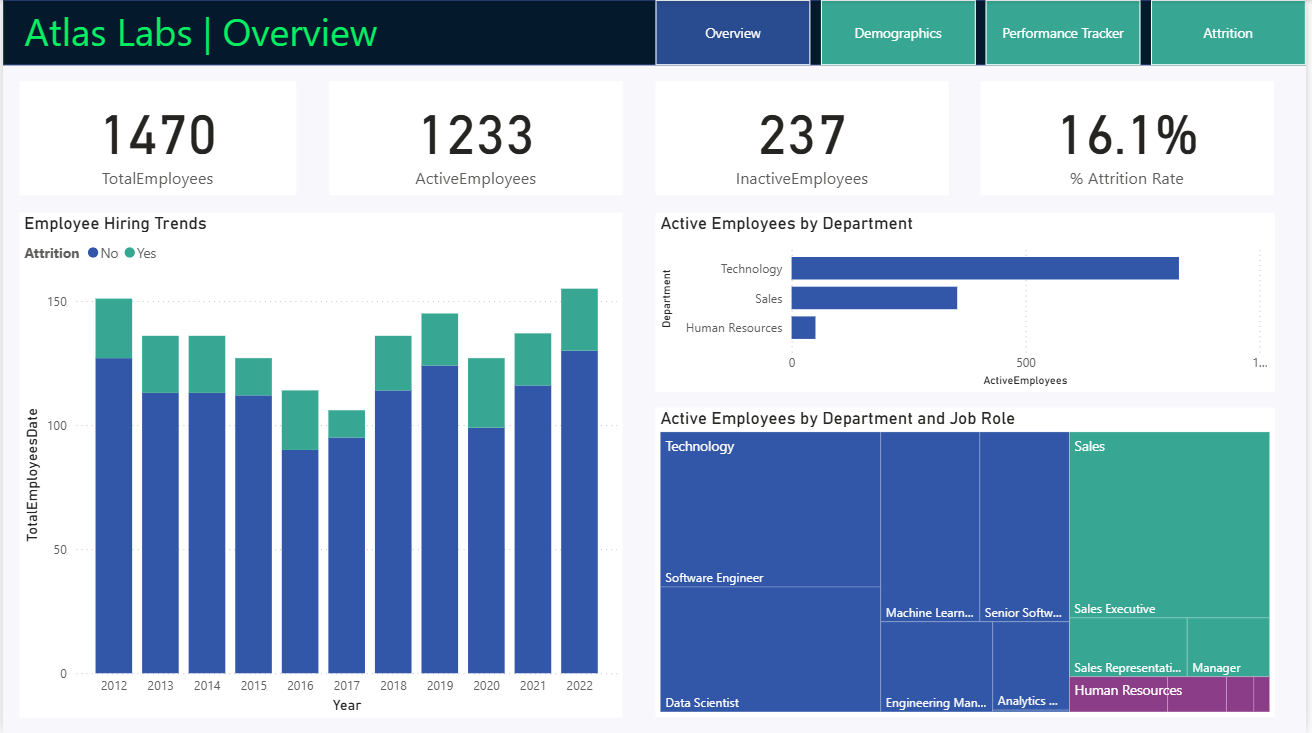

The page's visual inventory and layout, read from the dashboard file:
{"tool":"powerbi","page":{"name":"Overview","canvas":[1280,720],"ordinal":0},"visuals":[{"type":"card","fields":{"Values":["_Measures.TotalEmployees"]},"box":[16,80,272,112],"z":0},{"type":"card","fields":{"Values":["_Measures.ActiveEmployees"]},"box":[320,80,288,112],"z":1000},{"type":"card","fields":{"Values":["_Measures.InactiveEmployees"]},"box":[640,80,288,112],"z":2000},{"type":"card","fields":{"Values":["_Measures.% Attrition Rate"]},"box":[960,80,288,112],"z":3000},{"type":"columnChart","title":"Employee Hiring Trends","fields":{"Category":["DimDate.Date.Variation.Date Hierarchy.Year","DimDate.Date.Variation.Date Hierarchy.Quarter","DimDate.Date.Variation.Date Hierarchy.Month","DimDate.Date.Variation.Date Hierarchy.Day"],"Y":["_Measures.TotalEmployeesDate"],"Series":["DimEmployee.Attrition"]},"box":[16,208,592,496],"z":4000},{"type":"clusteredBarChart","title":"Active Employees by Department","fields":{"Category":["DimEmployee.Department"],"Y":["_Measures.ActiveEmployees"]},"box":[640,208,608,176],"z":5000},{"type":"treemap","title":"Active Employees by Department and Job Role","fields":{"Values":["_Measures.ActiveEmployees"],"Group":["DimEmployee.Department"],"Details":["DimEmployee.JobRole"]},"box":[640,400,608,304],"z":6000},{"type":"shape","box":[0,0,1280,64],"z":7000},{"type":"textbox","box":[16,0,448,64],"z":8000},{"type":"pageNavigator","box":[640,0,640,64],"z":9000}]}

Visuals, with their boxes in screenshot pixels (x1, y1, x2, y2), scaled from the page's 1280x720 canvas onto the 1312x733 screenshot:
card - _Measures.TotalEmployees: left=16, top=81, right=295, bottom=195
card - _Measures.ActiveEmployees: left=328, top=81, right=623, bottom=195
card - _Measures.InactiveEmployees: left=656, top=81, right=951, bottom=195
card - _Measures.% Attrition Rate: left=984, top=81, right=1279, bottom=195
"Employee Hiring Trends" columnChart: left=16, top=212, right=623, bottom=717
"Active Employees by Department" clusteredBarChart: left=656, top=212, right=1279, bottom=391
"Active Employees by Department and Job Role" treemap: left=656, top=407, right=1279, bottom=717
shape: left=0, top=0, right=1311, bottom=65
textbox: left=16, top=0, right=476, bottom=65
pageNavigator: left=656, top=0, right=1311, bottom=65
